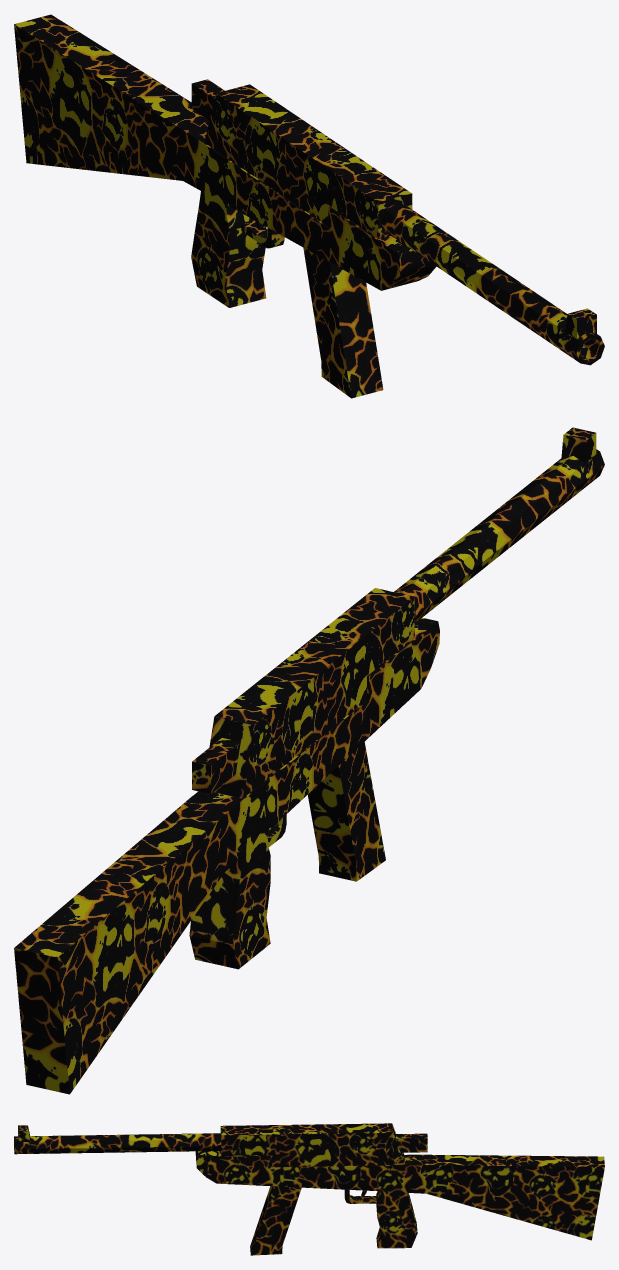
The model's file is arma2.obj.
3 renders of one model, top to bottom at view 1: azimuth 30°, elevation 25°; view 2: azimuth 150°, elevation 25°; view 3: azimuth 270°, elevation 25°, orthographic. The views are drawn at different scales.
Parts seen in each view (by area): view 1: Light_Machine; view 2: Light_Machine; view 3: Light_Machine.
Boxes of the visible parts, x1,y1,x2,y2 form: Light_Machine: (14, 14, 604, 398); Light_Machine: (14, 427, 604, 1094); Light_Machine: (14, 1123, 604, 1255).
Bounding box in the file's own units: 0.4973 × 1.6 × 6.79.
Materials: 1 (1 with a texture image).
